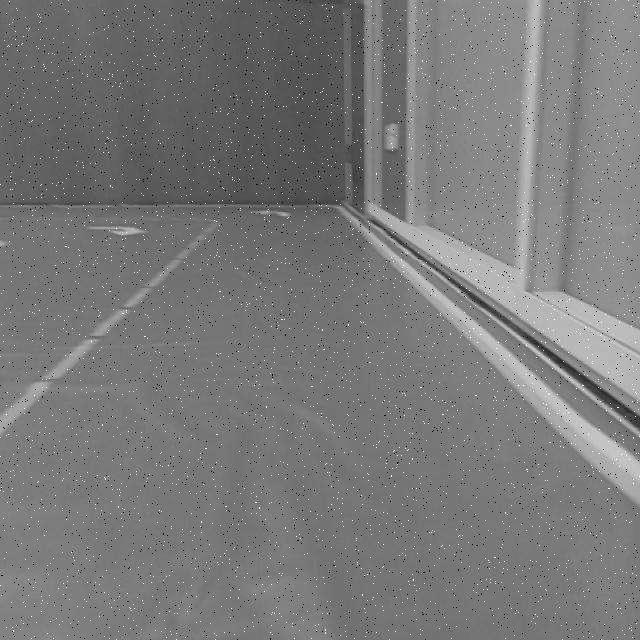left_lane: (0, 218, 220, 438)
right_lane: (338, 209, 640, 507)
